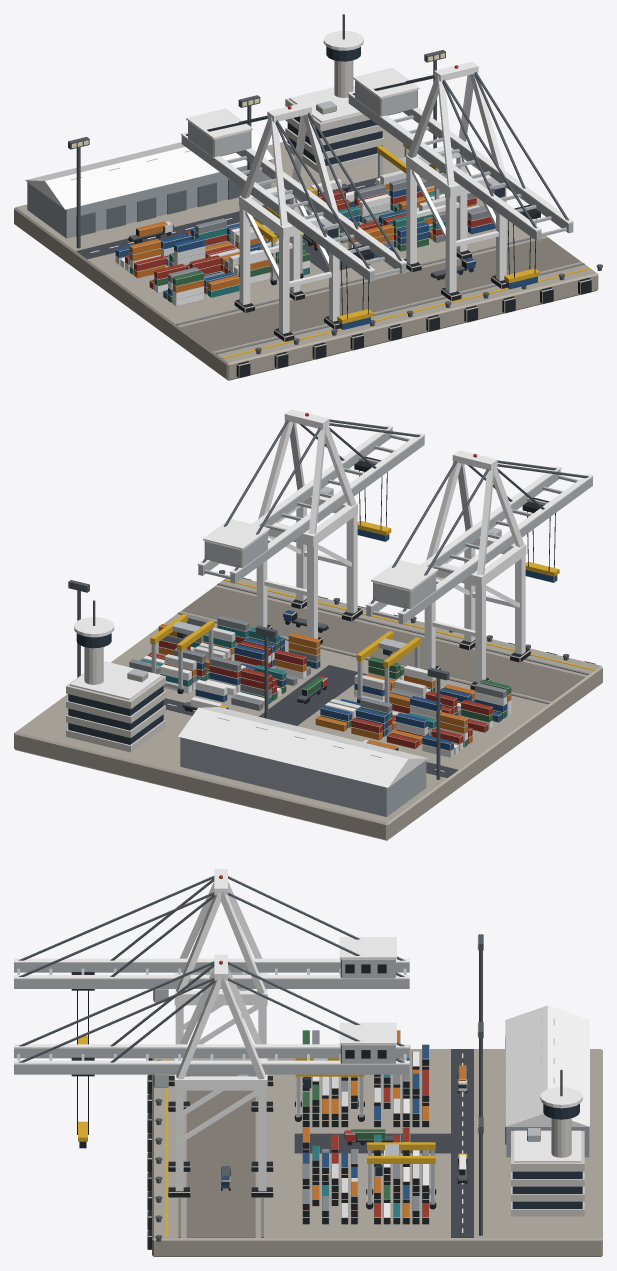
The model's file is port.glb.
The picture shows the model from 3 angles, top to bottom: view 1: azimuth 30°, elevation 25°; view 2: azimuth 150°, elevation 25°; view 3: azimuth 270°, elevation 25°; orthographic projection. The views are drawn at different scales.
Parts seen in each view (by area): view 1: Port; view 2: Port; view 3: Port.
Part boxes in pixels (box(x1,y1,x2,y2)): Port: box(14, 14, 602, 380); Port: box(14, 409, 602, 840); Port: box(14, 869, 602, 1256).
Bounding box in the file's own units: 1 × 0.577 × 1.28.
